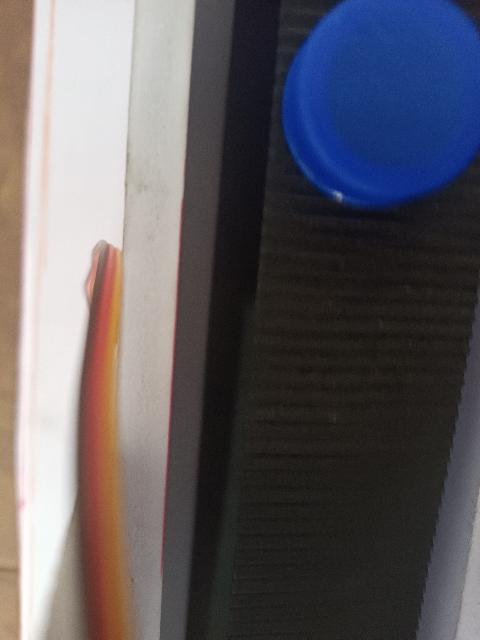bottlecap: (282, 0, 480, 204)
